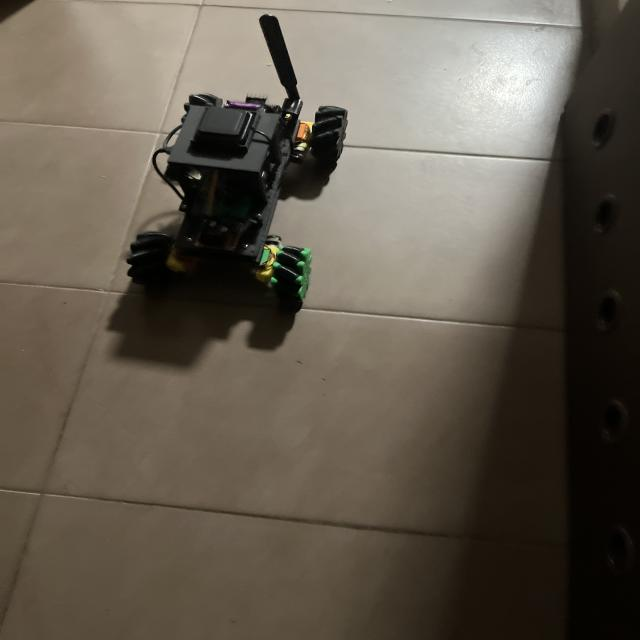robot: (127, 15, 347, 304)
